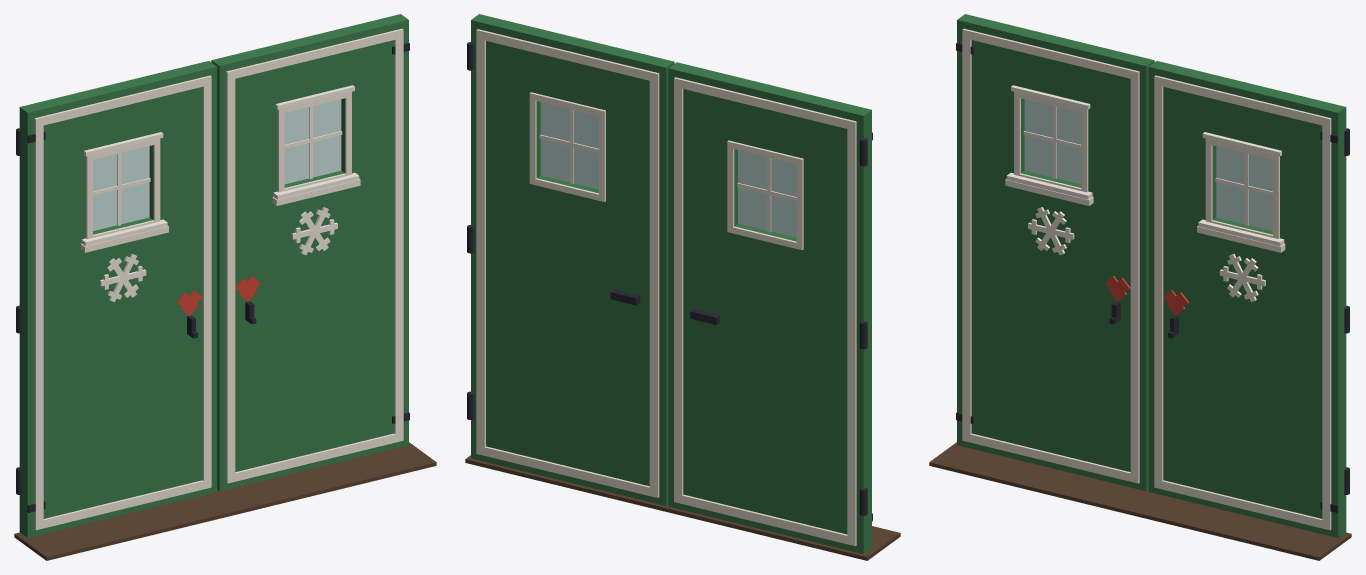
File: CatCafe_Door_Chalet_Front.glb
3 views of the same model, side by side, from view 1: azimuth 30°, elevation 25°; view 2: azimuth 150°, elevation 25°; view 3: azimuth 330°, elevation 25° (orthographic). The views are drawn at different scales.
Parts seen in each view (by area): view 1: CatCafe_Door_Chalet_Front_LeafR, CatCafe_Door_Chalet_Front_LeafL, CatCafe_Door_Chalet_Front, CatCafe_Door_Chalet_Front_LeafL_Glass, CatCafe_Door_Chalet_Front_LeafR_Glass; view 2: CatCafe_Door_Chalet_Front_LeafR, CatCafe_Door_Chalet_Front_LeafL, CatCafe_Door_Chalet_Front_LeafR_Glass, CatCafe_Door_Chalet_Front_LeafL_Glass, CatCafe_Door_Chalet_Front; view 3: CatCafe_Door_Chalet_Front_LeafL, CatCafe_Door_Chalet_Front_LeafR, CatCafe_Door_Chalet_Front, CatCafe_Door_Chalet_Front_LeafR_Glass, CatCafe_Door_Chalet_Front_LeafL_Glass.
Part boxes in pixels (left/top/right/bottom): CatCafe_Door_Chalet_Front_LeafR: left=16, top=61, right=217, bottom=537; CatCafe_Door_Chalet_Front_LeafL: left=211, top=14, right=409, bottom=491; CatCafe_Door_Chalet_Front: left=14, top=442, right=436, bottom=560; CatCafe_Door_Chalet_Front_LeafL_Glass: left=284, top=99, right=341, bottom=184; CatCafe_Door_Chalet_Front_LeafR_Glass: left=93, top=146, right=149, bottom=230; CatCafe_Door_Chalet_Front_LeafR: left=668, top=62, right=872, bottom=554; CatCafe_Door_Chalet_Front_LeafL: left=467, top=14, right=674, bottom=505; CatCafe_Door_Chalet_Front_LeafR_Glass: left=738, top=150, right=796, bottom=237; CatCafe_Door_Chalet_Front_LeafL_Glass: left=540, top=102, right=598, bottom=189; CatCafe_Door_Chalet_Front: left=465, top=455, right=900, bottom=560; CatCafe_Door_Chalet_Front_LeafL: left=1148, top=61, right=1349, bottom=537; CatCafe_Door_Chalet_Front_LeafR: left=956, top=14, right=1154, bottom=491; CatCafe_Door_Chalet_Front: left=929, top=442, right=1351, bottom=560; CatCafe_Door_Chalet_Front_LeafR_Glass: left=1024, top=99, right=1081, bottom=184; CatCafe_Door_Chalet_Front_LeafL_Glass: left=1216, top=146, right=1272, bottom=230.
Size of the model in its own units: 6.96 by 7.33 by 1.09.
1 material, 1 textured.
